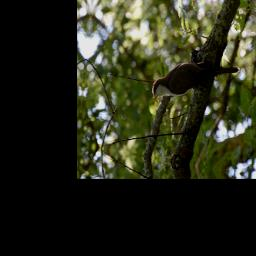Cuckoo: (150, 48, 241, 120)
